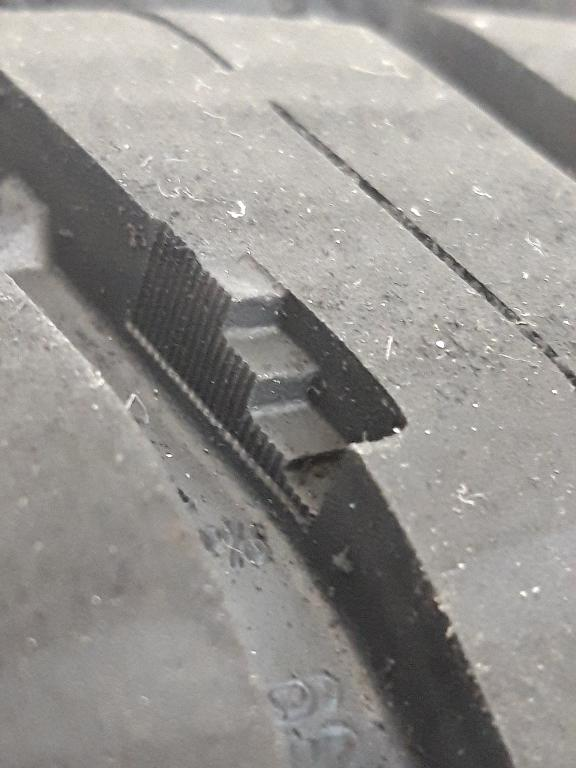temoin:75: (163, 243, 428, 550)
